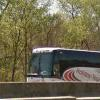Bus: (23, 41, 100, 83)
